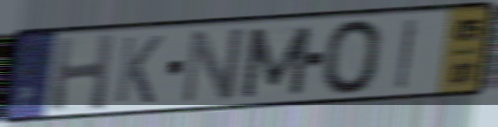H: (48, 30, 117, 114)
I: (393, 16, 422, 92)
K: (112, 33, 166, 106)
M: (237, 23, 315, 101)
N: (178, 24, 248, 107)
O: (320, 16, 386, 98)
